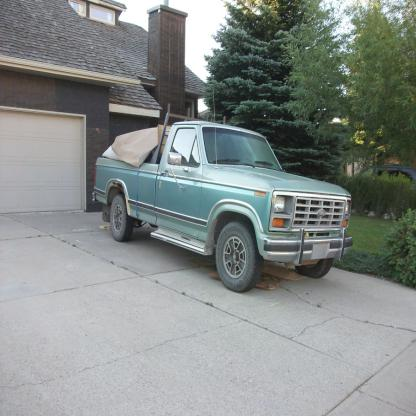Car: (92, 88, 356, 294), (351, 162, 416, 194)
Truck: (95, 116, 356, 290)
